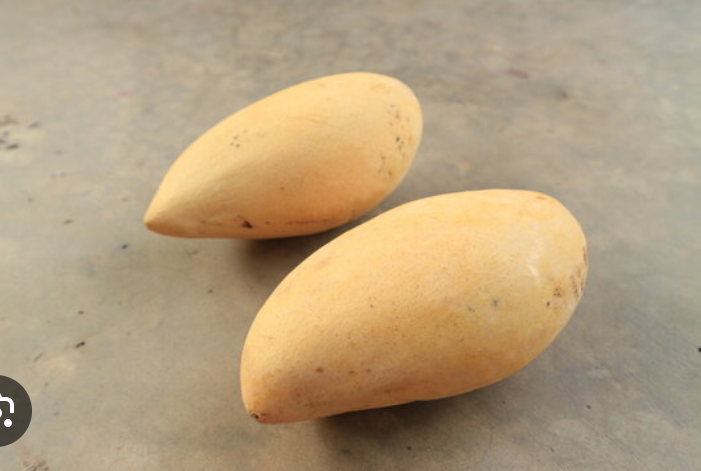mango: (237, 186, 590, 425), (141, 70, 424, 242)
